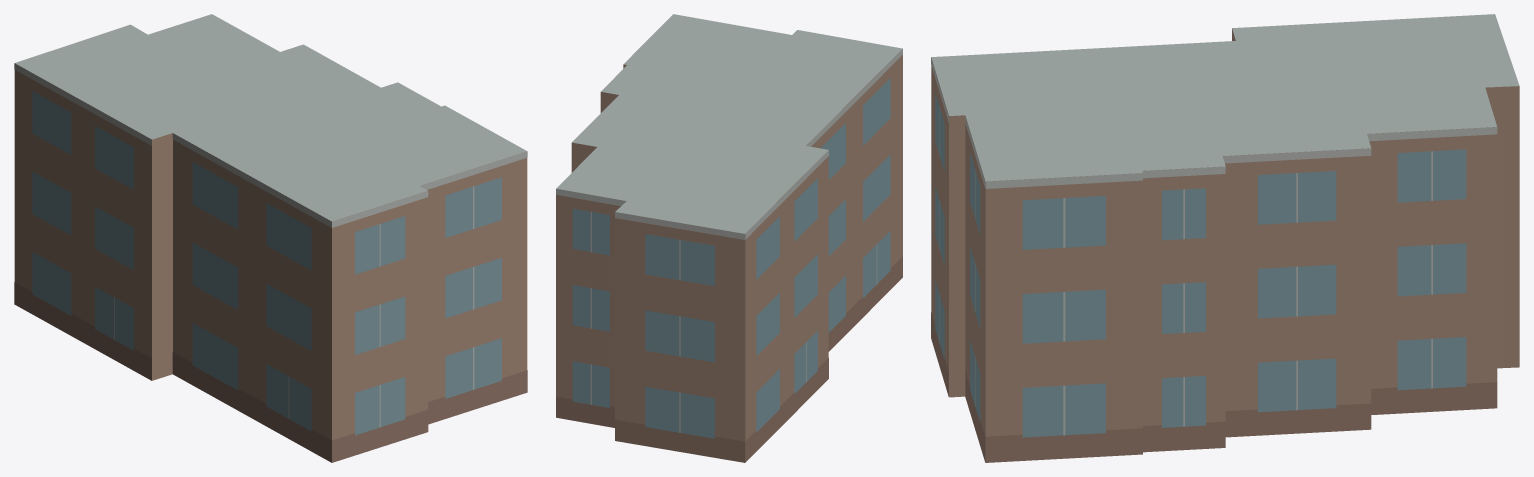
File: survey-upis-33032029.glb
The picture shows the model from 3 angles, left to right: view 1: azimuth 30°, elevation 25°; view 2: azimuth 150°, elevation 25°; view 3: azimuth 270°, elevation 25°; orthographic projection. The views are drawn at different scales.
Parts seen in each view (by area): view 1: survey-upis-33032029.tmp; view 2: survey-upis-33032029.tmp; view 3: survey-upis-33032029.tmp.
Part boxes in pixels (box(x1,y1,x2,y2)): survey-upis-33032029.tmp: box(14, 14, 527, 462); survey-upis-33032029.tmp: box(556, 14, 902, 462); survey-upis-33032029.tmp: box(931, 14, 1519, 462).
Size of the model in its own units: 11.69 by 9.15 by 17.35.
